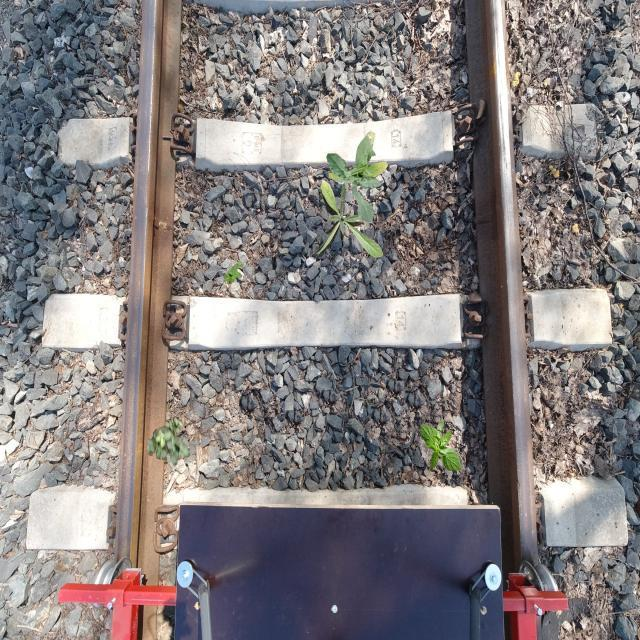Plant: (312, 179, 384, 260), (326, 130, 388, 224), (420, 419, 462, 472), (147, 416, 190, 466), (224, 261, 244, 286)
